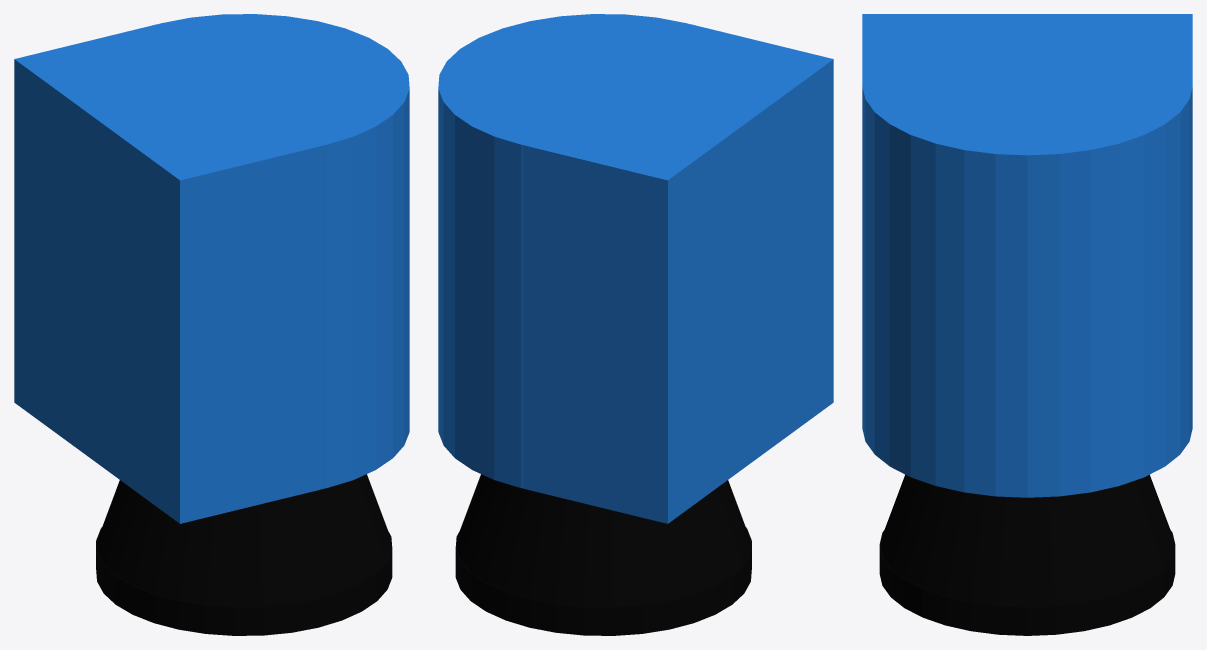
Rendered from lms100.dae.
3 views of the same model, side by side, from view 1: azimuth 30°, elevation 25°; view 2: azimuth 150°, elevation 25°; view 3: azimuth 270°, elevation 25° (orthographic).
Parts seen in each view (by area): view 1: Cone; view 2: Cone; view 3: Cone.
Boxes of the visible parts, x1,y1,x2,y2 form: Cone: (14,14,409,635); Cone: (438,14,833,635); Cone: (862,14,1192,635).
Bounding box in the file's own units: 0.1062 × 0.105 × 0.171.
